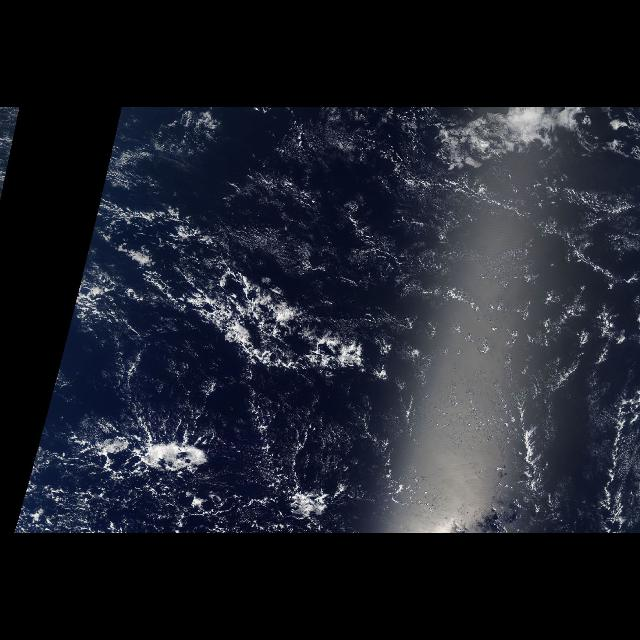Gravel: (56, 388, 378, 532)
